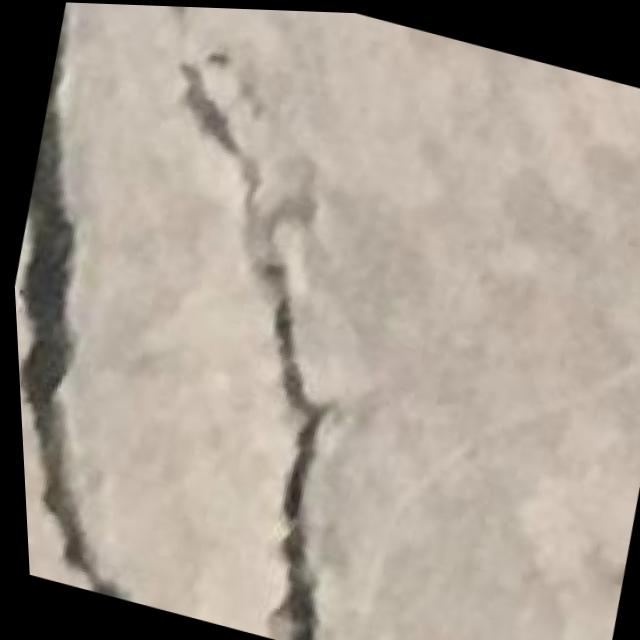Crack: (35, 1, 452, 640), (0, 0, 265, 604)
